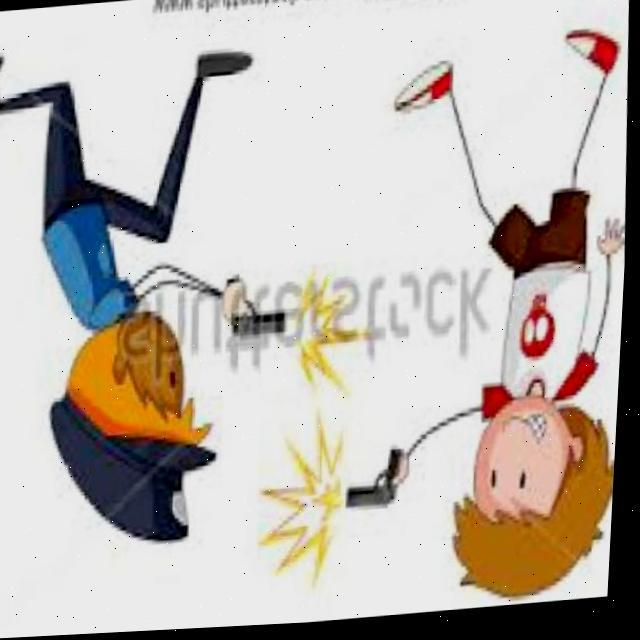gun: (224, 276, 294, 348), (349, 452, 410, 518)
